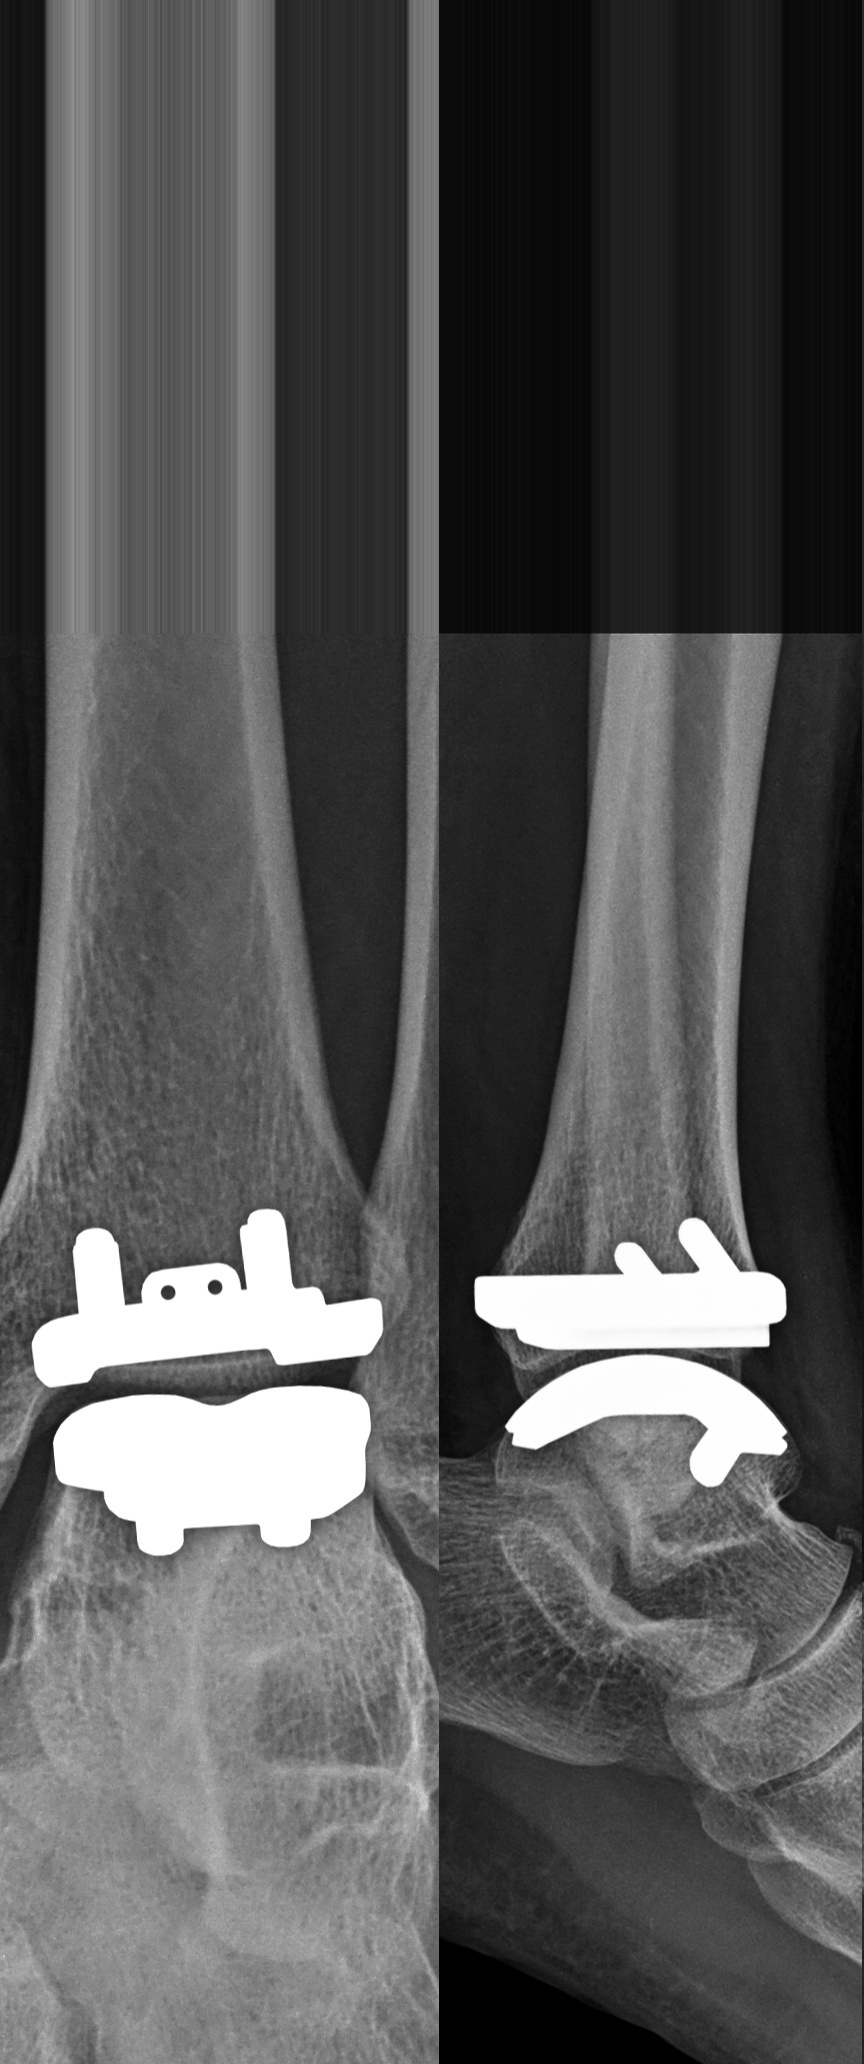Cadence-Integra: (3, 1200, 391, 1590), (460, 1204, 802, 1495)
